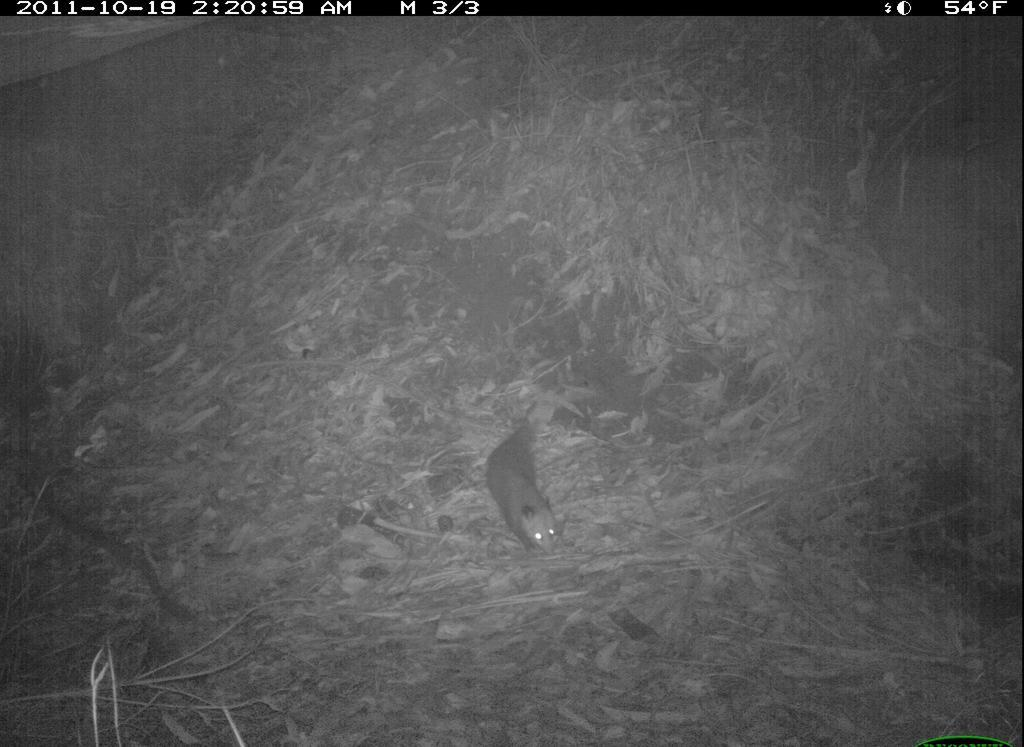opossum: (481, 393, 588, 565)
